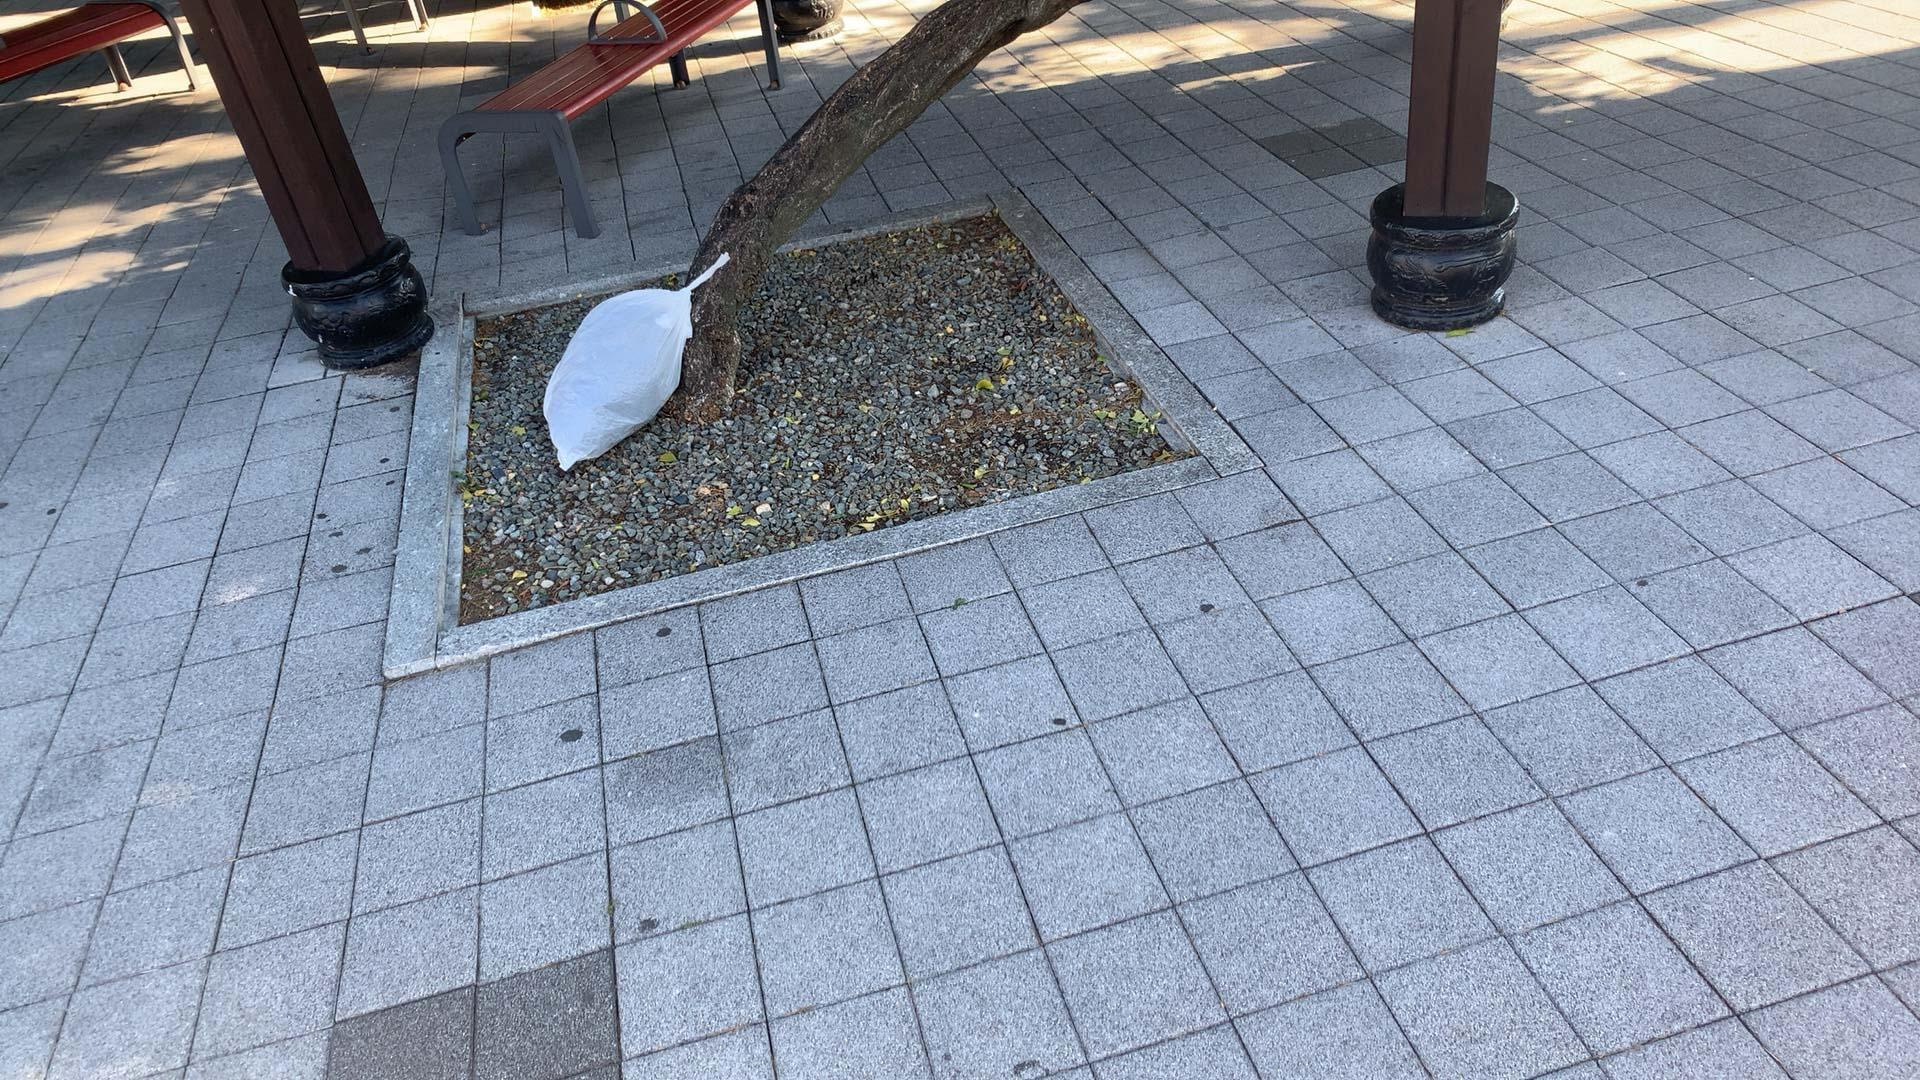white_bag: (528, 249, 730, 478)
